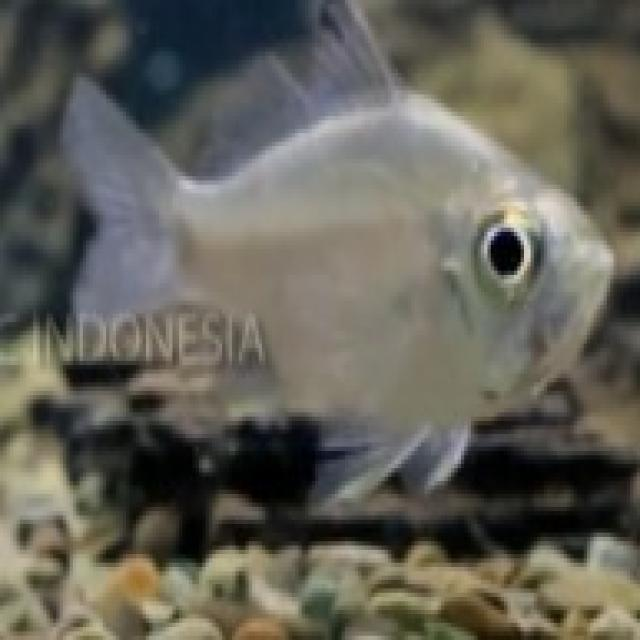Glass-Perchlet: (37, 14, 628, 582)
